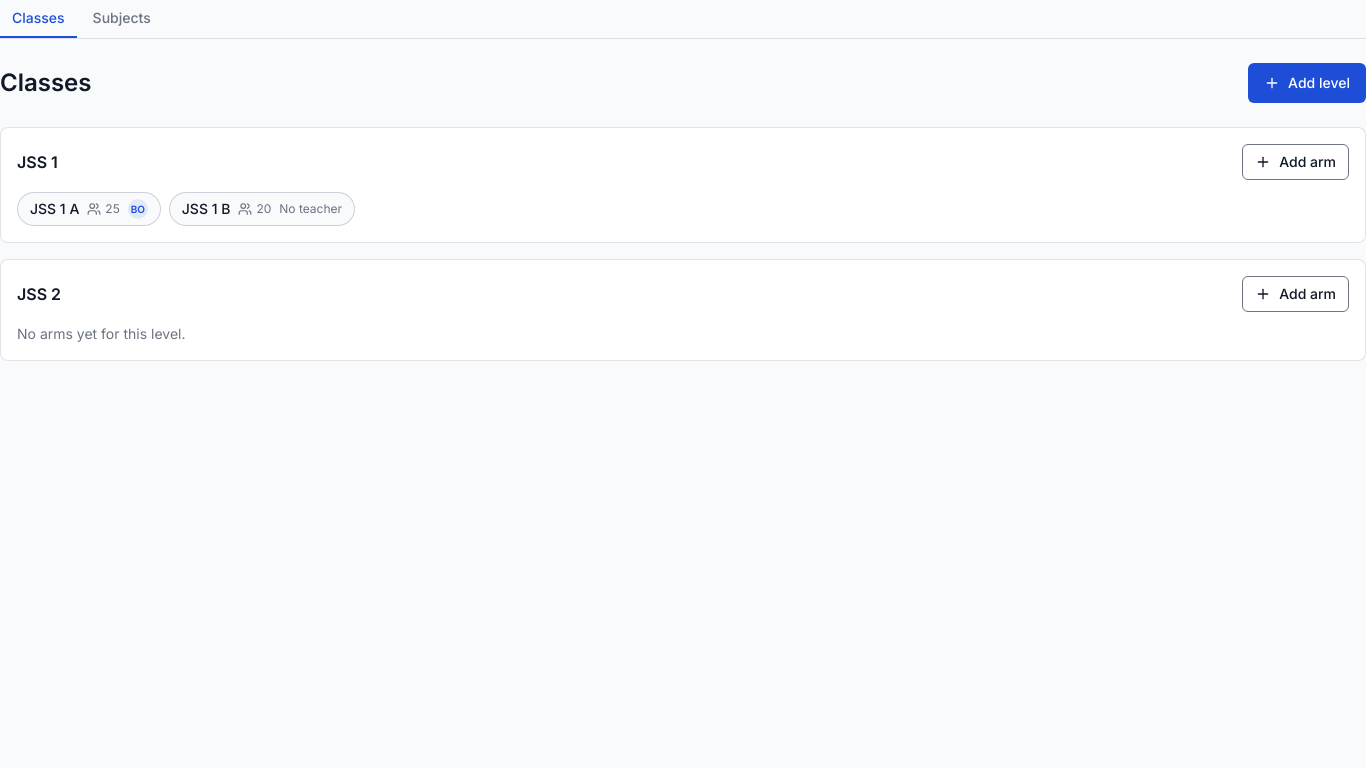
Test case: ClassesPage — Classes tab › Add arm dialog suggests the next letter (has A and B -> suggests C)
The image size is (1366, 768).
expect the heading "JSS 1" is shown: met, box [17,150,58,174]
Click the 1st button "Add arm" at (1296, 162), box [1242,144,1349,180]
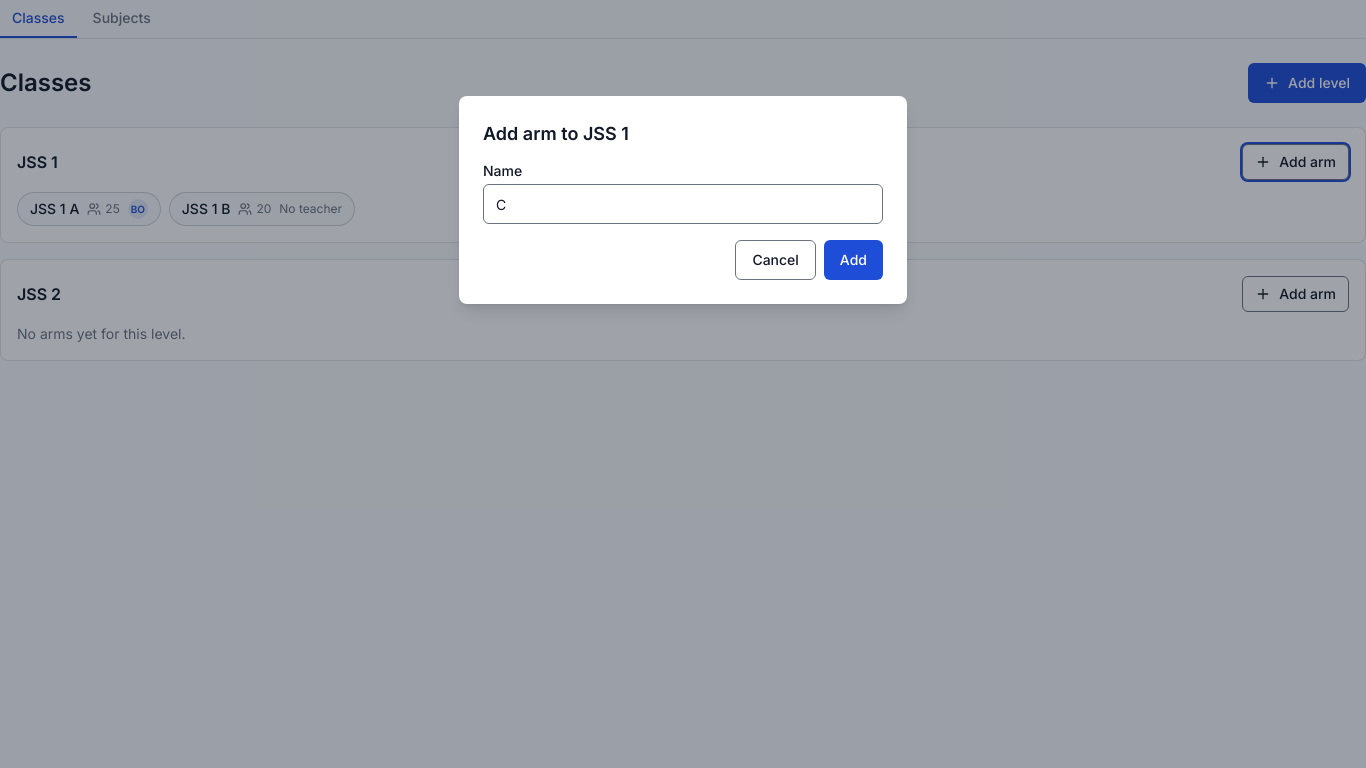
expect the field labelled "Name" holds "C": met, box [483,184,883,224]
